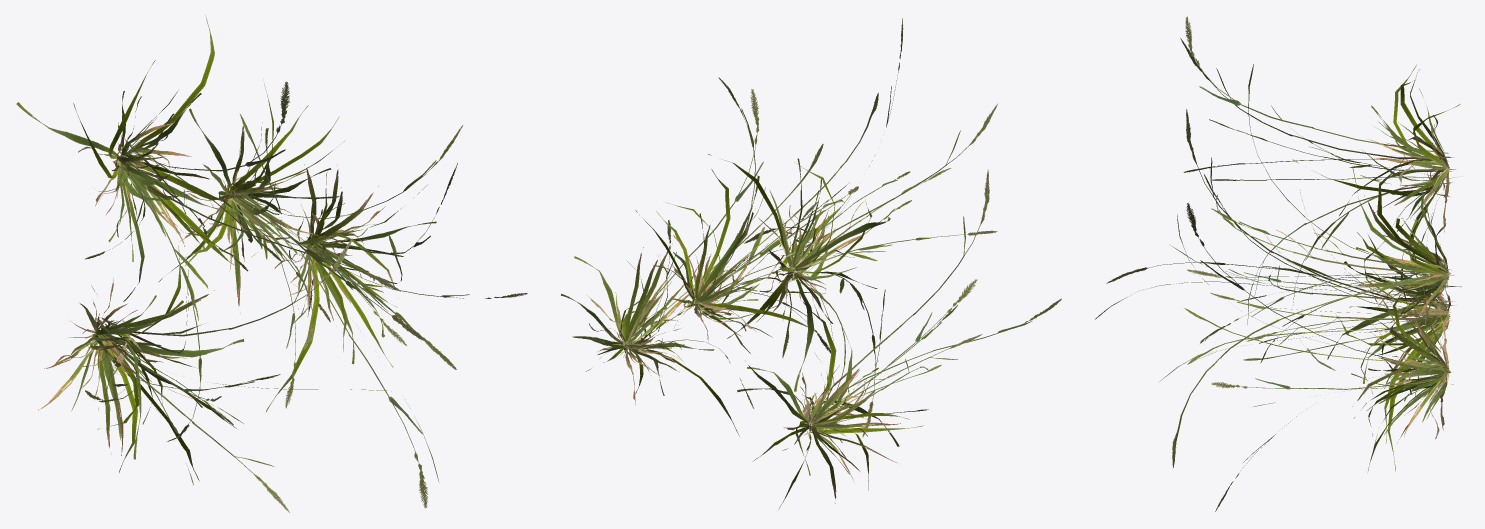
The model's file is Tall_Grass_02_Var3_LOD0.fbx.
3 renders of one model, left to right at view 1: azimuth 30°, elevation 25°; view 2: azimuth 150°, elevation 25°; view 3: azimuth 270°, elevation 25°, orthographic. The views are drawn at different scales.
Parts seen in each view (by area): view 1: Var3_LOD0; view 2: Var3_LOD0; view 3: Var3_LOD0.
Part boxes in pixels (bbox=[...]): Var3_LOD0: bbox=[16, 15, 527, 512]; Var3_LOD0: bbox=[561, 18, 1061, 509]; Var3_LOD0: bbox=[1095, 16, 1463, 511].
Bounding box in the file's own units: 119 × 121 × 92.88.
